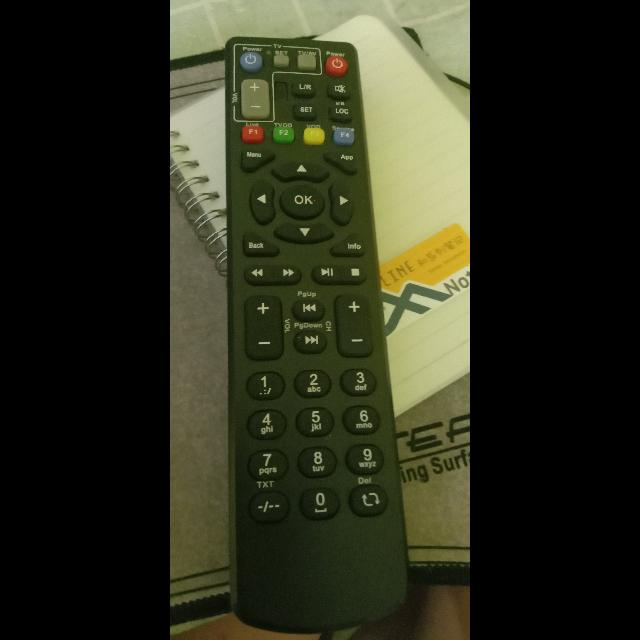TV-Remote-Control: (210, 35, 404, 628)
